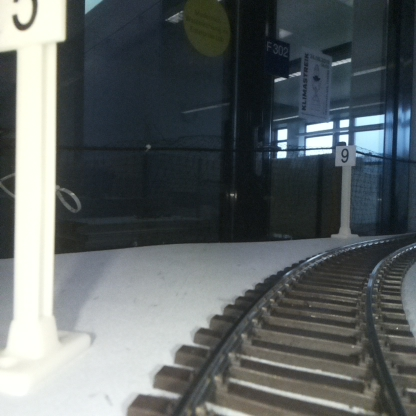white-info-9: (335, 144, 355, 237)
